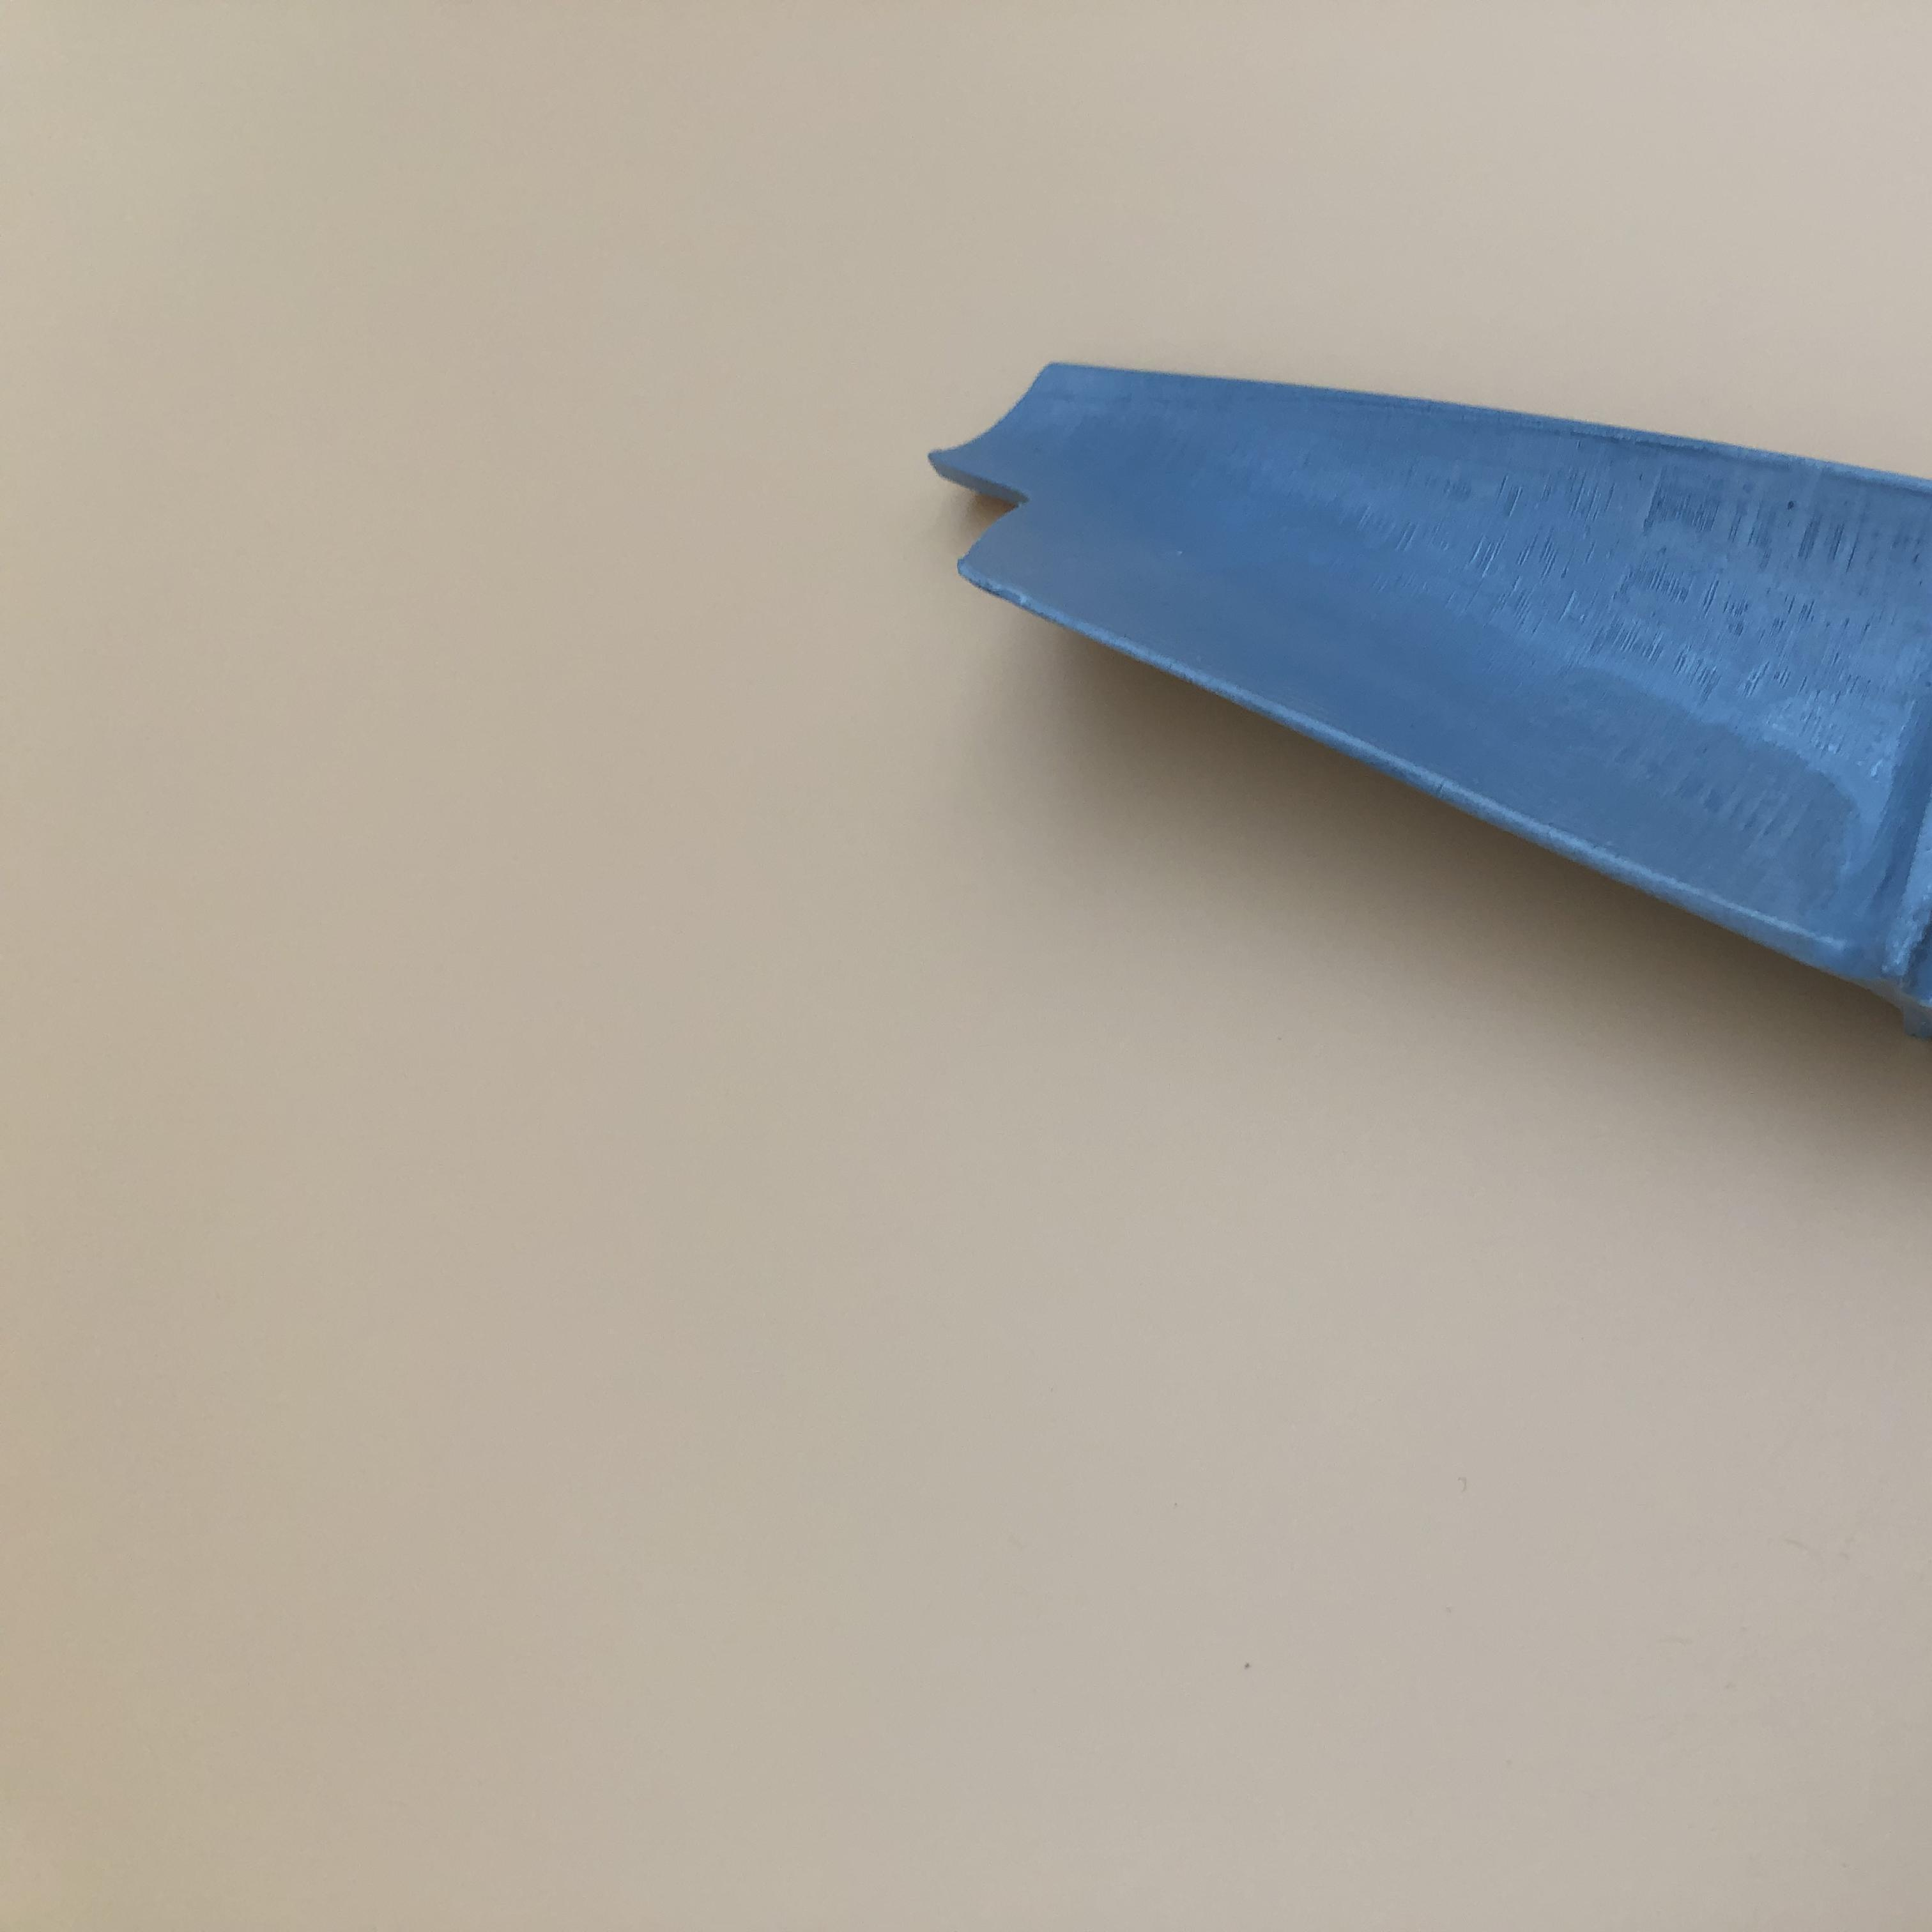fracture: (932, 455, 1037, 602)
